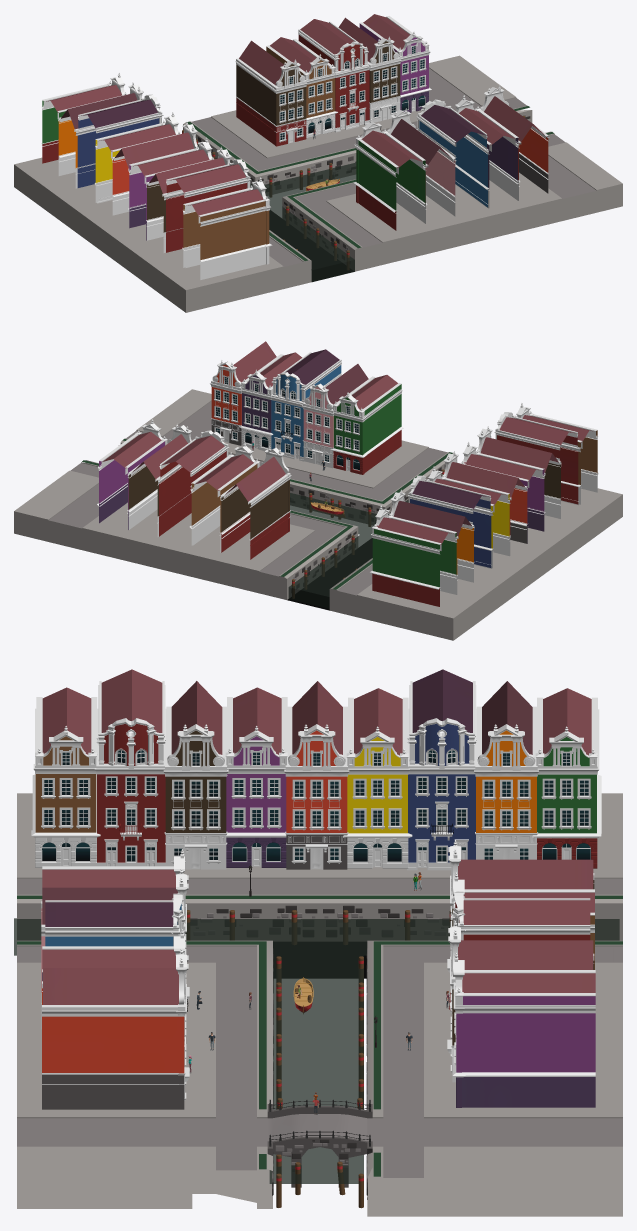
File: base-ams-8.glb
3 views of the same model, one above another, from view 1: azimuth 30°, elevation 25°; view 2: azimuth 150°, elevation 25°; view 3: azimuth 270°, elevation 25° (orthographic). The views are drawn at different scales.
Parts seen in each view (by area): view 1: Ground, Parts_geo_25_New_color_palette_mat_0.004, Parts_geo_10_New_color_palette_mat_0.009, Water_geo, Parts_geo_14_New_color_palette_mat_0.005, Parts_geo_28_New_color_palette_mat_0.003, Parts_geo_14_New_color_palette_mat_0.004, Parts_geo_23_New_color_palette_mat_0.004, Parts_geo_22_New_color_palette_mat_0.001, Parts_geo_10_New_color_palette_mat_0.010, Parts_geo_01_New_color_palette_mat_0.005, Parts_geo_16 (+17 smaller); view 2: Ground, Parts_geo_10_New_color_palette_mat_0.007, Parts_geo_28_New_color_palette_mat_0.003, Water_geo, Parts_geo_23_New_color_palette_mat_0.005, Parts_geo_10_New_color_palette_mat_0.009, Parts_geo_25_New_color_palette_mat_0.005, Parts_geo_23_New_color_palette_mat_0.004, Parts_geo_14_New_color_palette_mat_0.004, Parts_geo_13, Parts_geo_07_New_color_palette_mat_0.001, Parts_geo_19_New_color_palette_mat_0.005 (+16 smaller); view 3: Ground, Water_geo, Parts_geo_16, Parts_geo_07_New_color_palette_mat_0.001, Parts_geo_22_New_color_palette_mat_0.003, Parts_geo_13_New_color_palette_mat_0.003, Parts_geo_17_New_color_palette_mat_0.003, Parts_geo_20_New_color_palette_mat_0.003, Parts_geo_26_New_color_palette_mat_0.003, Parts_geo_11_New_color_palette_mat_0.005, Parts_geo_08_New_color_palette_mat_0.003, Parts_geo_02_New_color_palette_mat_0.003 (+22 smaller).
Part boxes in pixels (x1,y1,x2,y2): Ground: (14,55,622,312); Parts_geo_25_New_color_palette_mat_0.004: (182,188,265,279); Parts_geo_10_New_color_palette_mat_0.009: (357,130,427,230); Water_geo: (198,145,356,282); Parts_geo_14_New_color_palette_mat_0.005: (419,105,488,208); Parts_geo_28_New_color_palette_mat_0.003: (235,40,284,144); Parts_geo_14_New_color_palette_mat_0.004: (77,99,159,203); Parts_geo_23_New_color_palette_mat_0.004: (166,164,247,267); Parts_geo_22_New_color_palette_mat_0.001: (333,41,369,132); Parts_geo_10_New_color_palette_mat_0.010: (455,108,520,207); Parts_geo_01_New_color_palette_mat_0.005: (391,119,456,223); Parts_geo_16: (484,96,549,200); Ground: (14,389,622,640); Parts_geo_10_New_color_palette_mat_0.007: (373,516,457,606); Parts_geo_28_New_color_palette_mat_0.003: (220,456,289,559); Water_geo: (288,475,441,608); Parts_geo_23_New_color_palette_mat_0.005: (159,435,226,545); Parts_geo_10_New_color_palette_mat_0.009: (336,375,403,472); Parts_geo_25_New_color_palette_mat_0.005: (189,454,257,552); Parts_geo_23_New_color_palette_mat_0.004: (496,417,578,505); Parts_geo_14_New_color_palette_mat_0.004: (409,481,491,568); Parts_geo_13: (270,372,306,461); Parts_geo_07_New_color_palette_mat_0.001: (97,433,164,529); Parts_geo_19_New_color_palette_mat_0.005: (127,434,190,536); Ground: (17,793,622,1216); Water_geo: (14,918,619,1183); Parts_geo_16: (42,968,182,1109); Parts_geo_07_New_color_palette_mat_0.001: (462,970,595,1107); Parts_geo_22_New_color_palette_mat_0.003: (94,718,165,866); Parts_geo_13_New_color_palette_mat_0.003: (406,718,476,870); Parts_geo_17_New_color_palette_mat_0.003: (284,724,349,869); Parts_geo_20_New_color_palette_mat_0.003: (163,724,228,869); Parts_geo_26_New_color_palette_mat_0.003: (31,726,100,867); Parts_geo_11_New_color_palette_mat_0.005: (343,726,412,868); Parts_geo_08_New_color_palette_mat_0.003: (225,726,287,867); Parts_geo_02_New_color_palette_mat_0.003: (474,724,538,859).
Bounding box in the file's own units: 27.24 × 6.3 × 18.3.
Materials: 6 (5 with a texture image).
